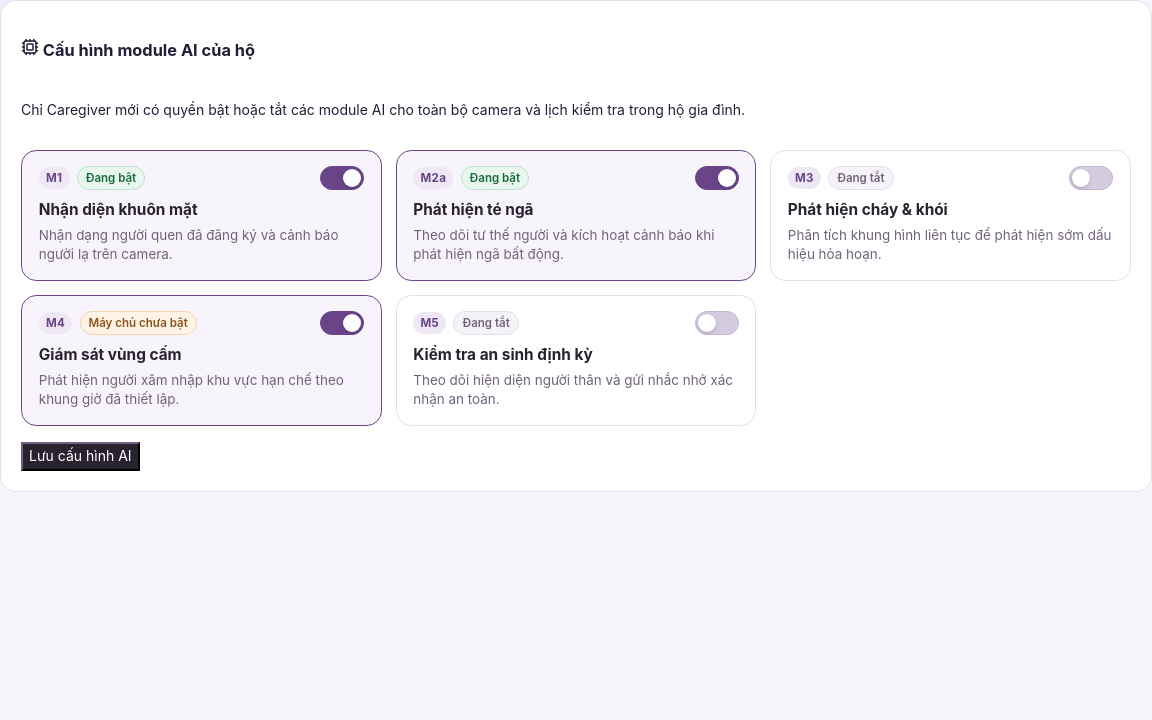
AiModulesSettings › surfaces save errors without losing draft edits
Click the switch named "m1Face" at (342, 178), box [320,166,364,190]
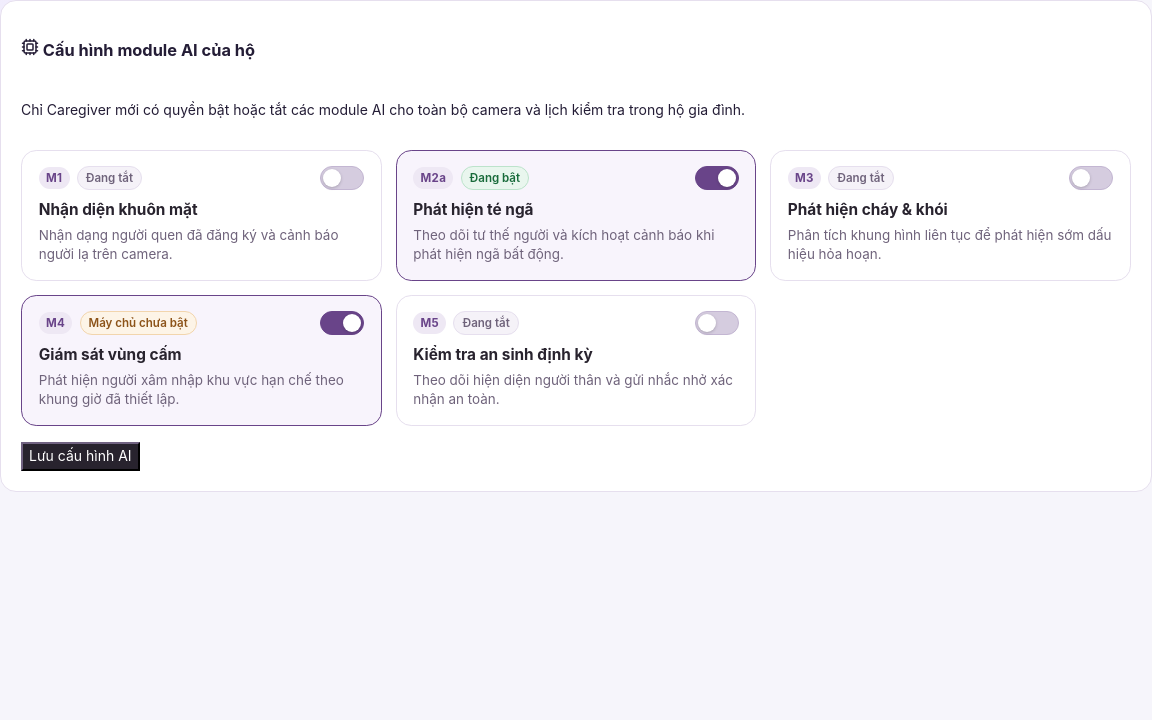
expect the switch named "m1Face" is not checked: met, box [320,166,364,190]
Submit the form, box [21,150,1131,470]
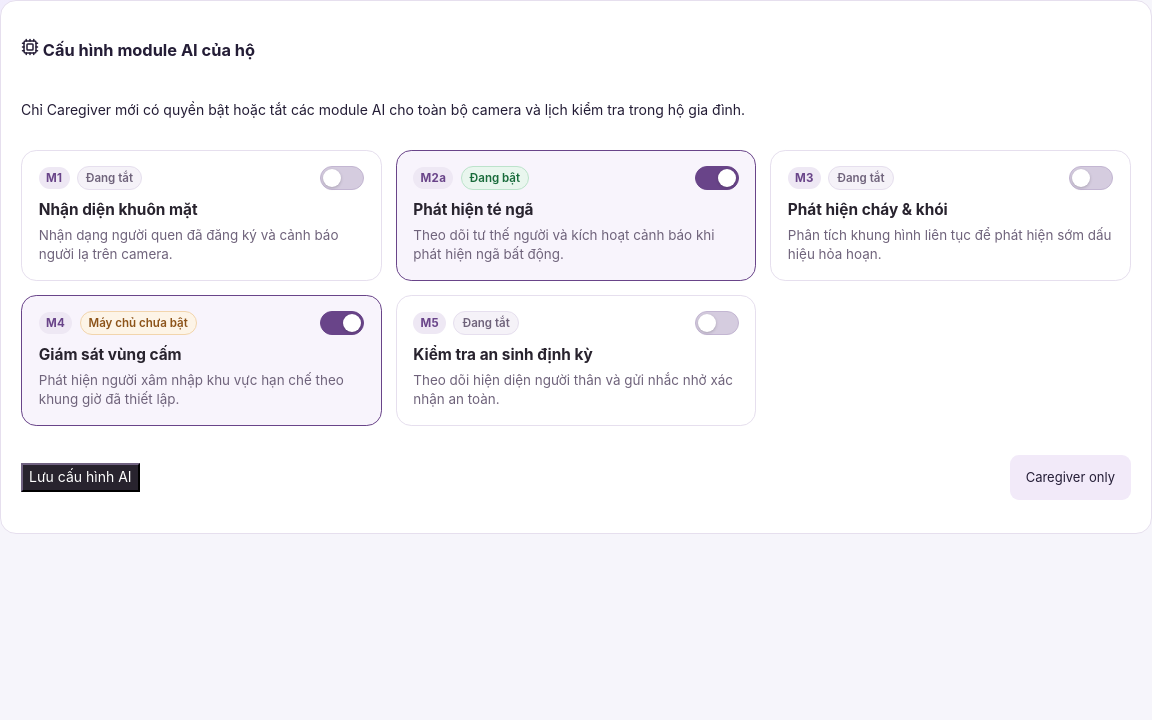
expect the switch named "m1Face" is not checked: met, box [320,166,364,190]
expect the message "Caregiver only" is shown: met, box [1010,455,1131,500]
